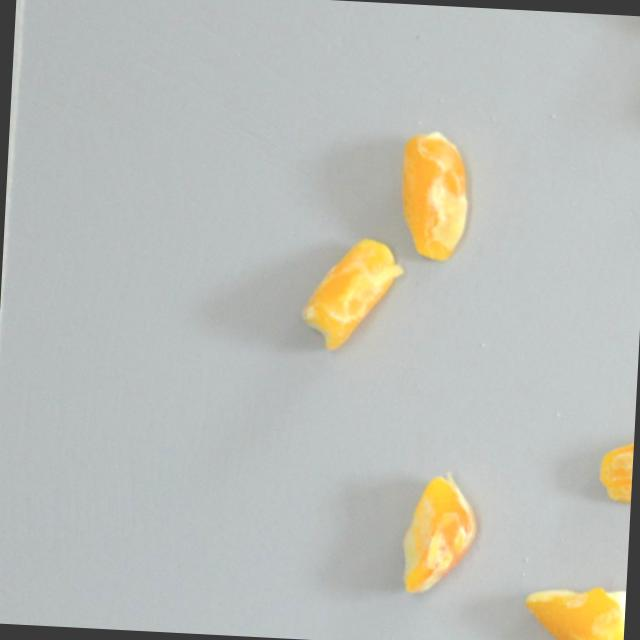pelicula: (372, 498, 508, 577), (399, 131, 476, 263), (310, 231, 389, 349), (537, 555, 627, 640), (616, 400, 636, 534)
